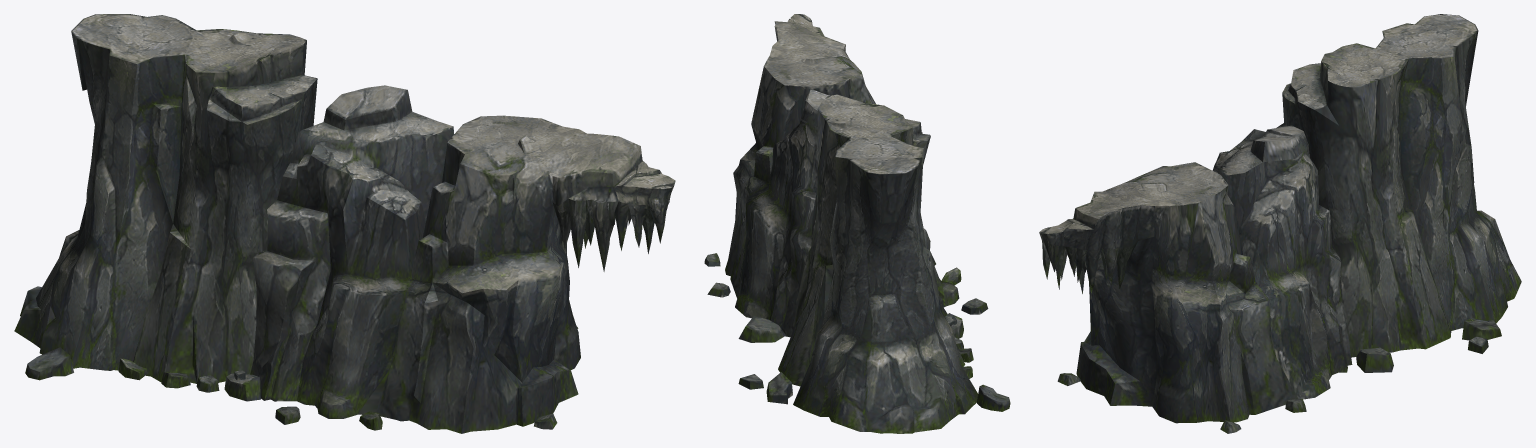
File: dx_shitou_2.FBX
3 renders of one model, left to right at view 1: azimuth 30°, elevation 25°; view 2: azimuth 150°, elevation 25°; view 3: azimuth 270°, elevation 25°, orthographic. The views are drawn at different scales.
Visible parts, largest first — view 1: dx_shitou_2; view 2: dx_shitou_2; view 3: dx_shitou_2.
Part boxes in pixels (box(x1,y1,x2,y2)): dx_shitou_2: box(14, 14, 675, 433); dx_shitou_2: box(704, 14, 1010, 433); dx_shitou_2: box(1039, 14, 1521, 433).
Size of the model in its own units: 2455 by 1523 by 2537.
